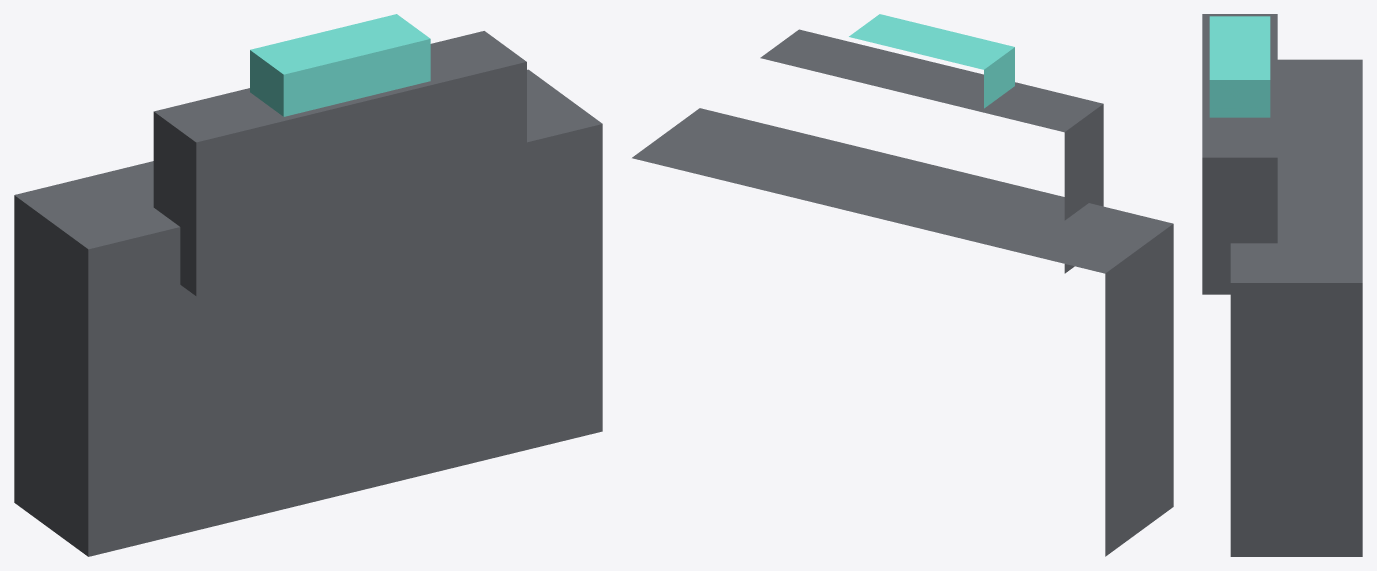
File: detector.glb
3 renders of one model, left to right at view 1: azimuth 30°, elevation 25°; view 2: azimuth 150°, elevation 25°; view 3: azimuth 270°, elevation 25°, orthographic. The views are drawn at different scales.
Size of the model in its own units: 0.14 by 0.116 by 0.0425.
